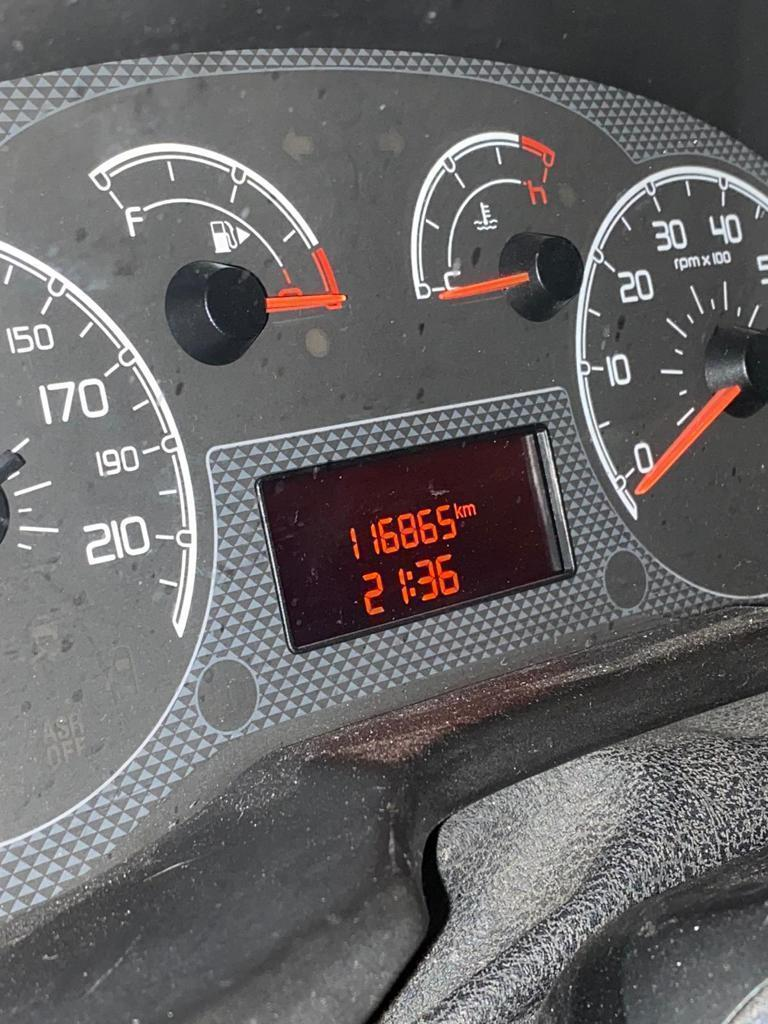1: (396, 566, 409, 606), (348, 525, 361, 560), (368, 521, 379, 556)
2: (361, 572, 385, 615)
3: (414, 558, 438, 601)
5: (435, 504, 457, 540)
6: (435, 553, 461, 595), (377, 516, 399, 557), (416, 507, 439, 544)
8: (397, 512, 418, 550)
X: (405, 569, 418, 598), (453, 501, 463, 521), (463, 503, 476, 516)
odometer: (237, 408, 589, 675)
